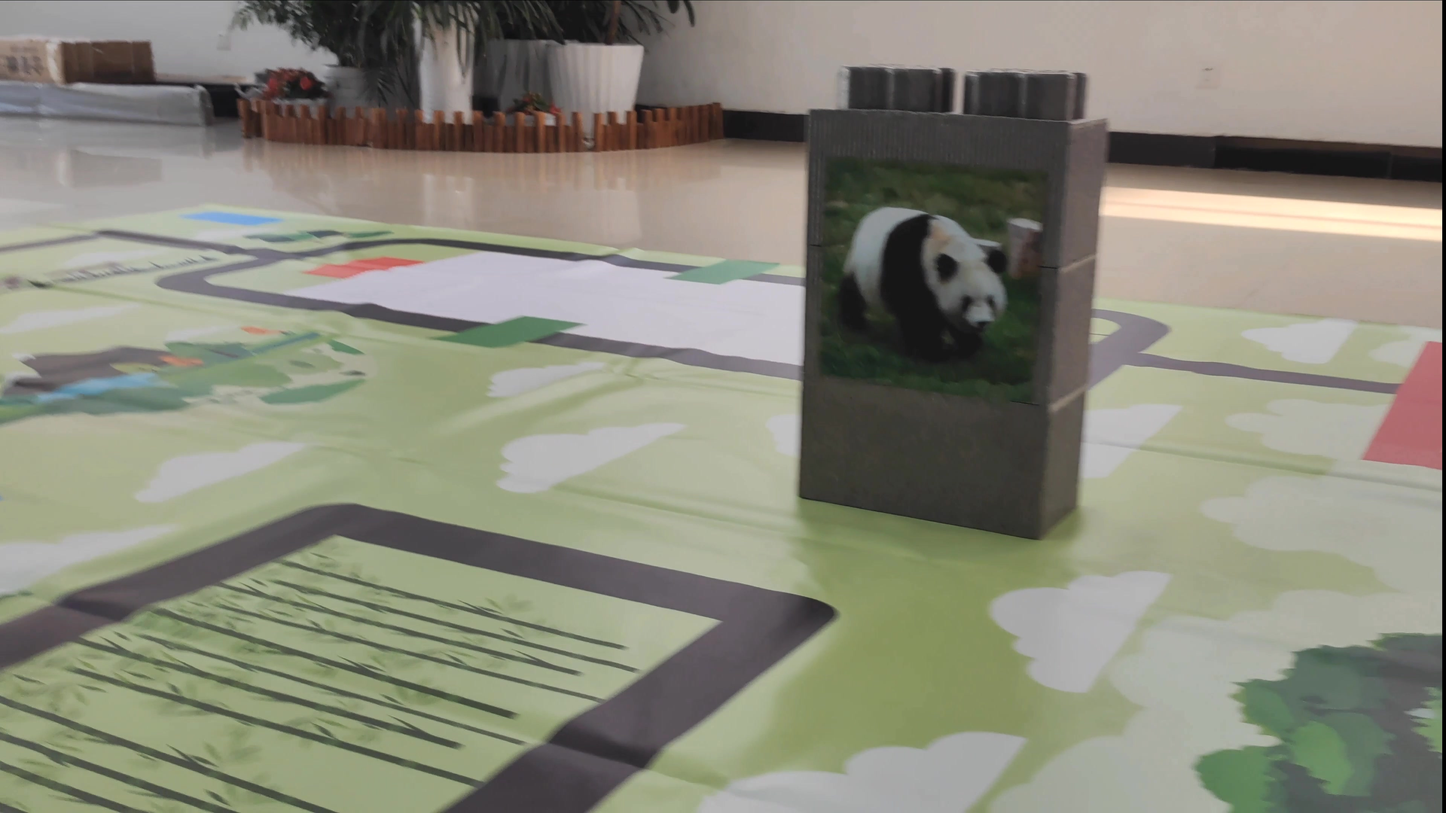panda: (819, 182, 1037, 387)
